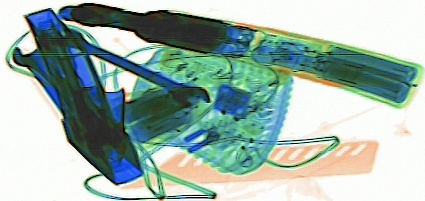lighter: (245, 71, 294, 95)
